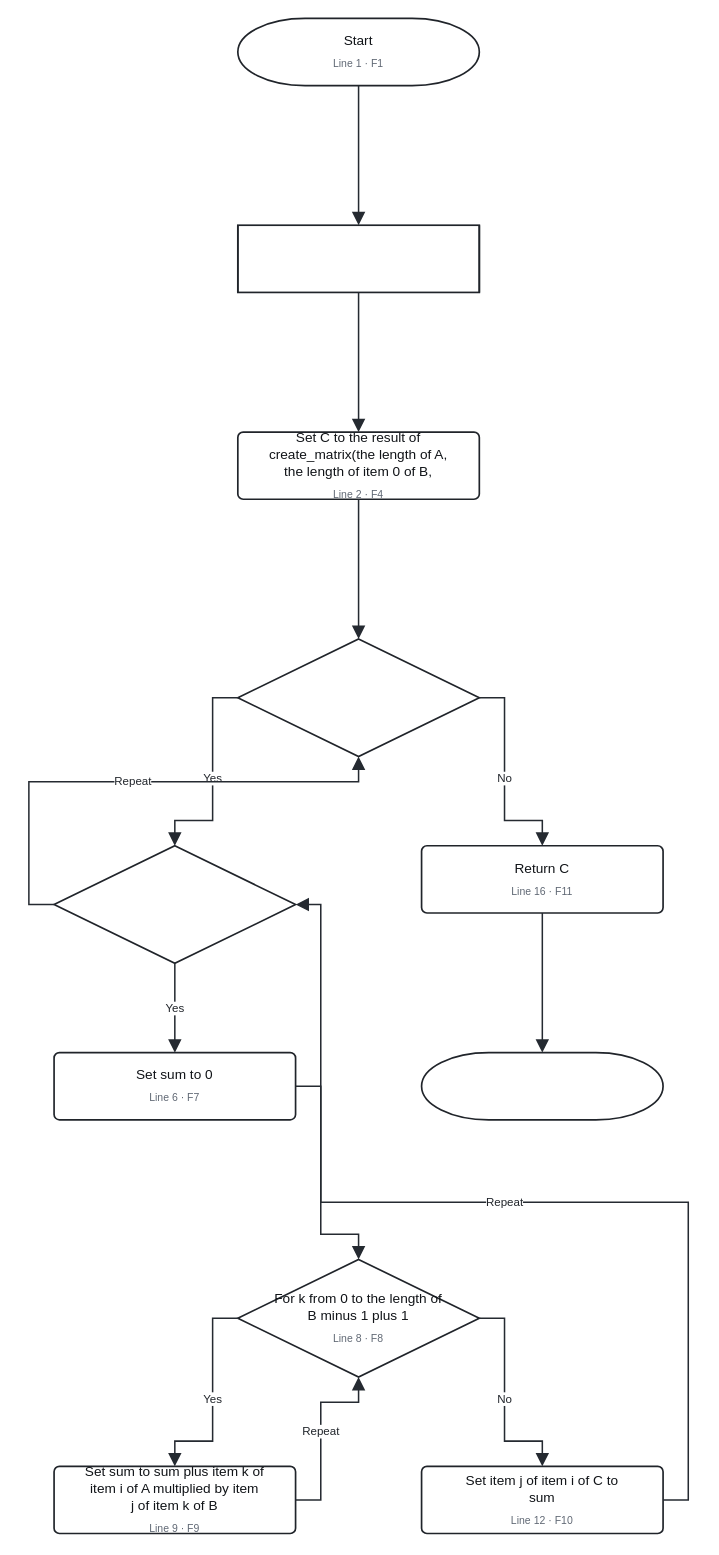
Image size: 719x1555. Some labels were removed from this diagram. Here are the shapes that lost their labels. From the top down, the centre of each, then its label:
At (358,258): "Run function unnamed_function with A, B Line 1 · F3".
At (358,697): "For i from 0 to the length of A minus 1 plus 1 Line 4 · F5".
At (174,904): "For j from 0 to the length of item 0 of B minus 1 plus 1 Line 5 · F6".
At (541,1085): "End Line 1 · F2".
